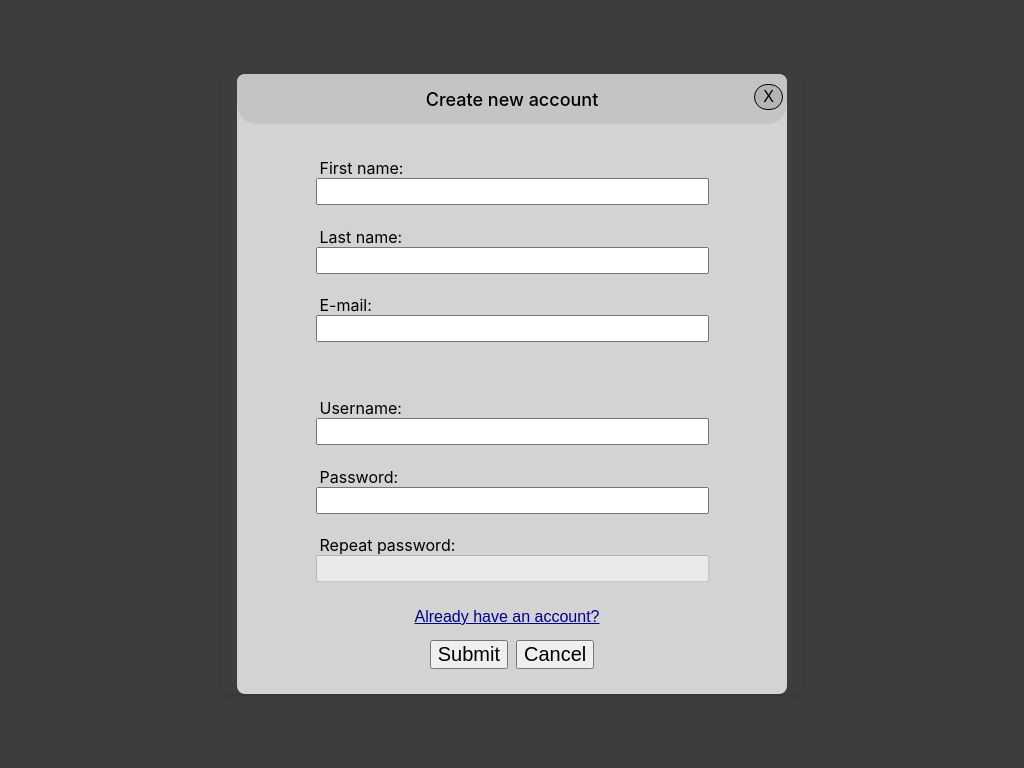
Test: RegistrationModal › input field tests › error handling › renders error message when username input field not valid and loses focus
Click the field labelled "Username:" at {"x": 512, "y": 431}, box [316,418,708,445]
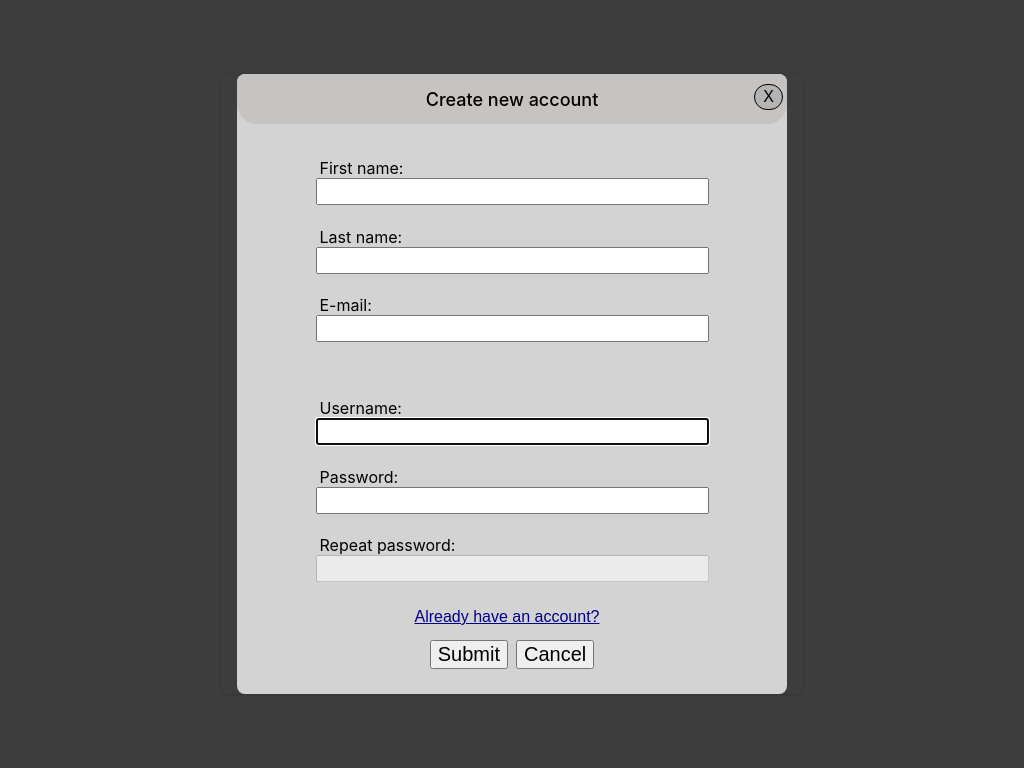
Click the password field labelled "Password:" at {"x": 512, "y": 500}, box [316,486,708,514]
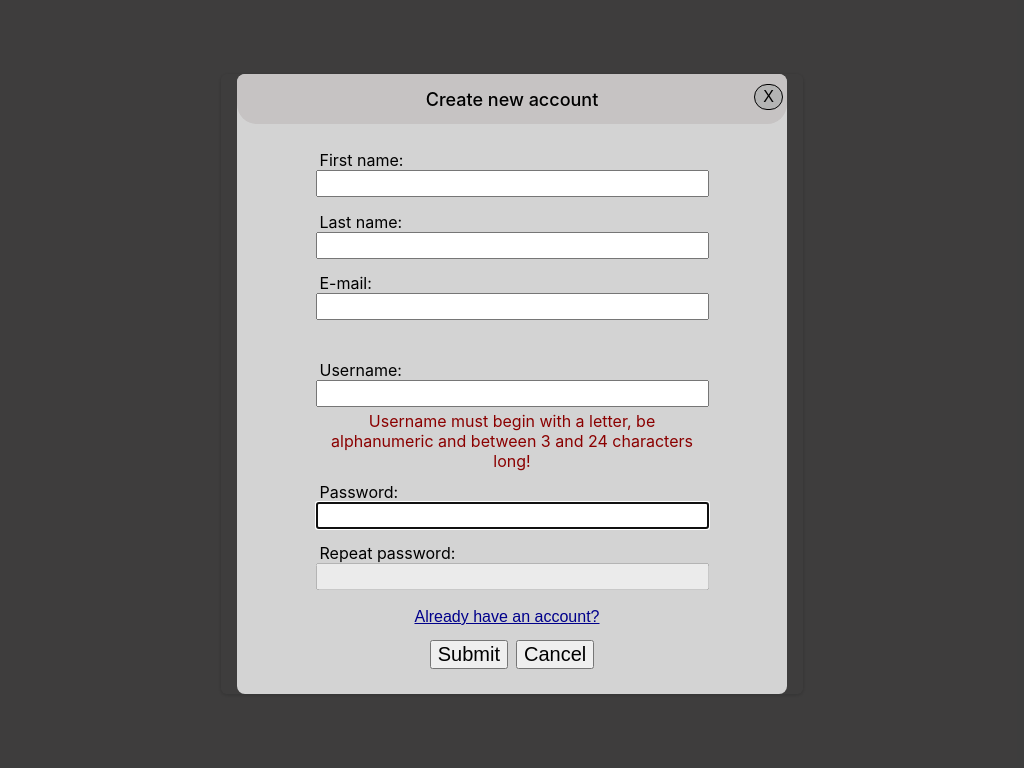
expect the text "Username must begin with a letter, be alphanumeric and between 3 and 24 characters long!" is shown: met, box [331,411,693,471]
